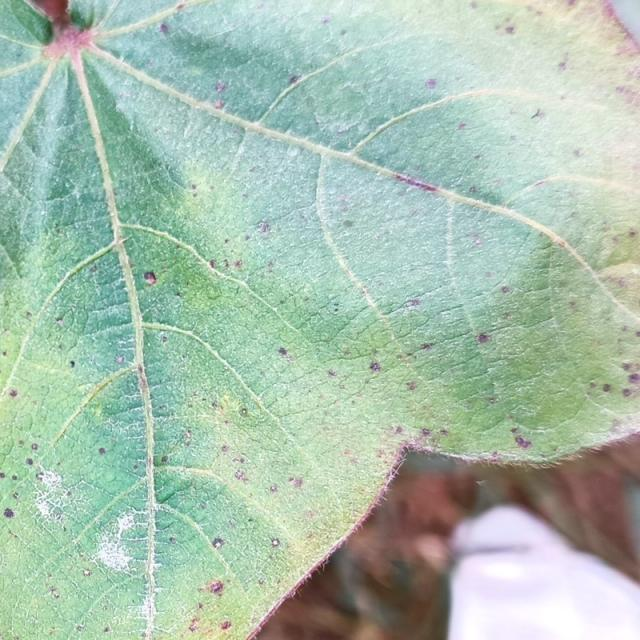Bacterial_Blight: (43, 23, 96, 64), (609, 19, 640, 60), (392, 171, 438, 192), (29, 0, 71, 23), (613, 83, 640, 110), (404, 341, 441, 359), (138, 265, 159, 289), (207, 580, 224, 595), (516, 436, 531, 449), (257, 221, 271, 234), (476, 332, 491, 344), (287, 145, 301, 157), (212, 537, 225, 549), (336, 123, 350, 134), (215, 81, 227, 93), (48, 587, 60, 599), (290, 477, 303, 488), (289, 74, 302, 85), (425, 78, 438, 89), (530, 108, 543, 119), (626, 373, 639, 384), (615, 85, 629, 95), (405, 298, 420, 307), (213, 99, 225, 110), (369, 361, 381, 372), (3, 508, 15, 519), (572, 148, 584, 158), (235, 470, 245, 481), (405, 381, 416, 391), (159, 23, 169, 34), (220, 620, 231, 630), (557, 61, 567, 72), (342, 219, 354, 228), (137, 364, 145, 377), (617, 278, 627, 288), (320, 16, 331, 25), (233, 260, 243, 269), (278, 347, 288, 356), (472, 238, 482, 247), (505, 26, 515, 35), (623, 388, 633, 397), (601, 384, 611, 393), (622, 362, 632, 371), (421, 342, 432, 350), (270, 484, 279, 493), (9, 389, 18, 398), (189, 623, 198, 632), (395, 425, 404, 434), (469, 1, 478, 10), (457, 122, 467, 130), (184, 430, 192, 440), (209, 259, 217, 269), (36, 471, 44, 481), (82, 569, 92, 577), (175, 3, 185, 11), (421, 428, 431, 436), (439, 428, 449, 436), (271, 539, 280, 547), (56, 318, 64, 327), (116, 355, 124, 364), (328, 369, 337, 377), (468, 186, 477, 194), (628, 229, 636, 238), (98, 447, 106, 455), (31, 443, 39, 451), (25, 311, 33, 319), (26, 458, 34, 466), (161, 455, 169, 463), (221, 444, 229, 452), (211, 400, 219, 408), (501, 286, 510, 293), (487, 397, 496, 404), (241, 408, 248, 416), (91, 265, 98, 273), (69, 360, 76, 368), (569, 301, 577, 308), (473, 154, 481, 161), (175, 290, 182, 298), (169, 536, 176, 544), (340, 29, 347, 36), (197, 603, 204, 610), (103, 626, 110, 633), (11, 474, 18, 481), (162, 335, 168, 342), (333, 301, 339, 308), (0, 472, 6, 479), (191, 184, 197, 190)
Cotton: (0, 0, 639, 639)
